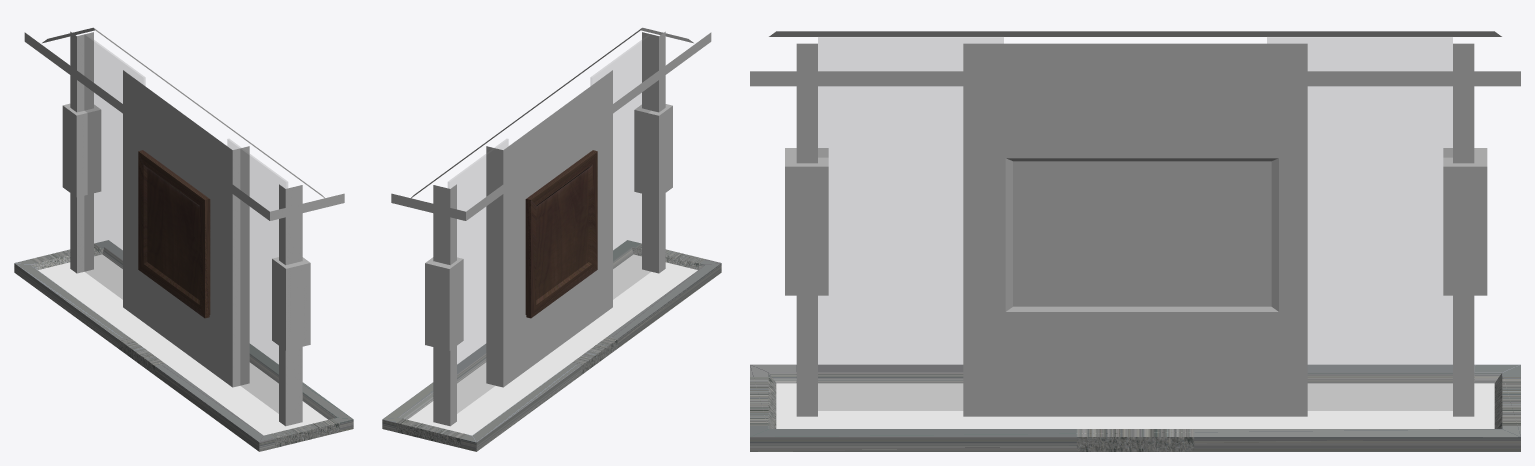
Rendered from room1.glb.
3 renders of one model, left to right at view 1: azimuth 30°, elevation 25°; view 2: azimuth 150°, elevation 25°; view 3: azimuth 270°, elevation 25°, orthographic. The views are drawn at different scales.
Visible parts, largest first — view 1: YFCG_2680, YFCG_2697, YFCG_2682, YFCG_2710, YFCG_2709, YFCG_2683, YFCG_2690, YFCG_2706, YFCG_2707; view 2: YFCG_2680, YFCG_2697, YFCG_2683, YFCG_2710, YFCG_2709, YFCG_2682, YFCG_2690, YFCG_2706, YFCG_2707; view 3: YFCG_2680, YFCG_2682, YFCG_2683, YFCG_2709, YFCG_2710, YFCG_2690, YFCG_2706, YFCG_2707, YFCG_2752.
Part boxes in pixels (x1,y1,x2,y2): YFCG_2680: (70,31,302,426); YFCG_2697: (138,150,210,318); YFCG_2682: (84,34,145,299); YFCG_2710: (38,254,327,435); YFCG_2709: (14,240,353,451); YFCG_2683: (227,139,287,413); YFCG_2690: (24,27,344,220); YFCG_2706: (62,103,101,197); YFCG_2707: (272,257,310,350); YFCG_2680: (433,31,665,426); YFCG_2697: (525,150,597,318); YFCG_2683: (590,34,651,299); YFCG_2710: (408,254,697,435); YFCG_2709: (382,240,721,451); YFCG_2682: (448,139,508,413); YFCG_2690: (391,27,711,220); YFCG_2706: (425,257,463,350); YFCG_2707: (634,104,672,197); YFCG_2680: (796,43,1474,416); YFCG_2682: (1267,36,1452,410); YFCG_2683: (818,36,1003,410); YFCG_2709: (750,364,1520,451); YFCG_2710: (776,383,1494,428); YFCG_2690: (750,31,1520,86); YFCG_2706: (1443,148,1487,295); YFCG_2707: (785,148,828,295); YFCG_2752: (1005,158,1278,311).
Size of the model in its own units: 1.55 by 3.81 by 6.99.
Materials: 8 (2 with a texture image).
